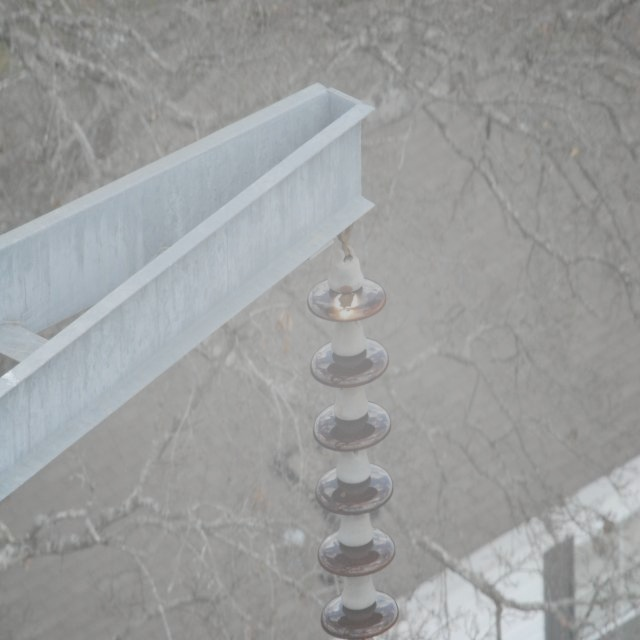insulator: (308, 282, 399, 634)
